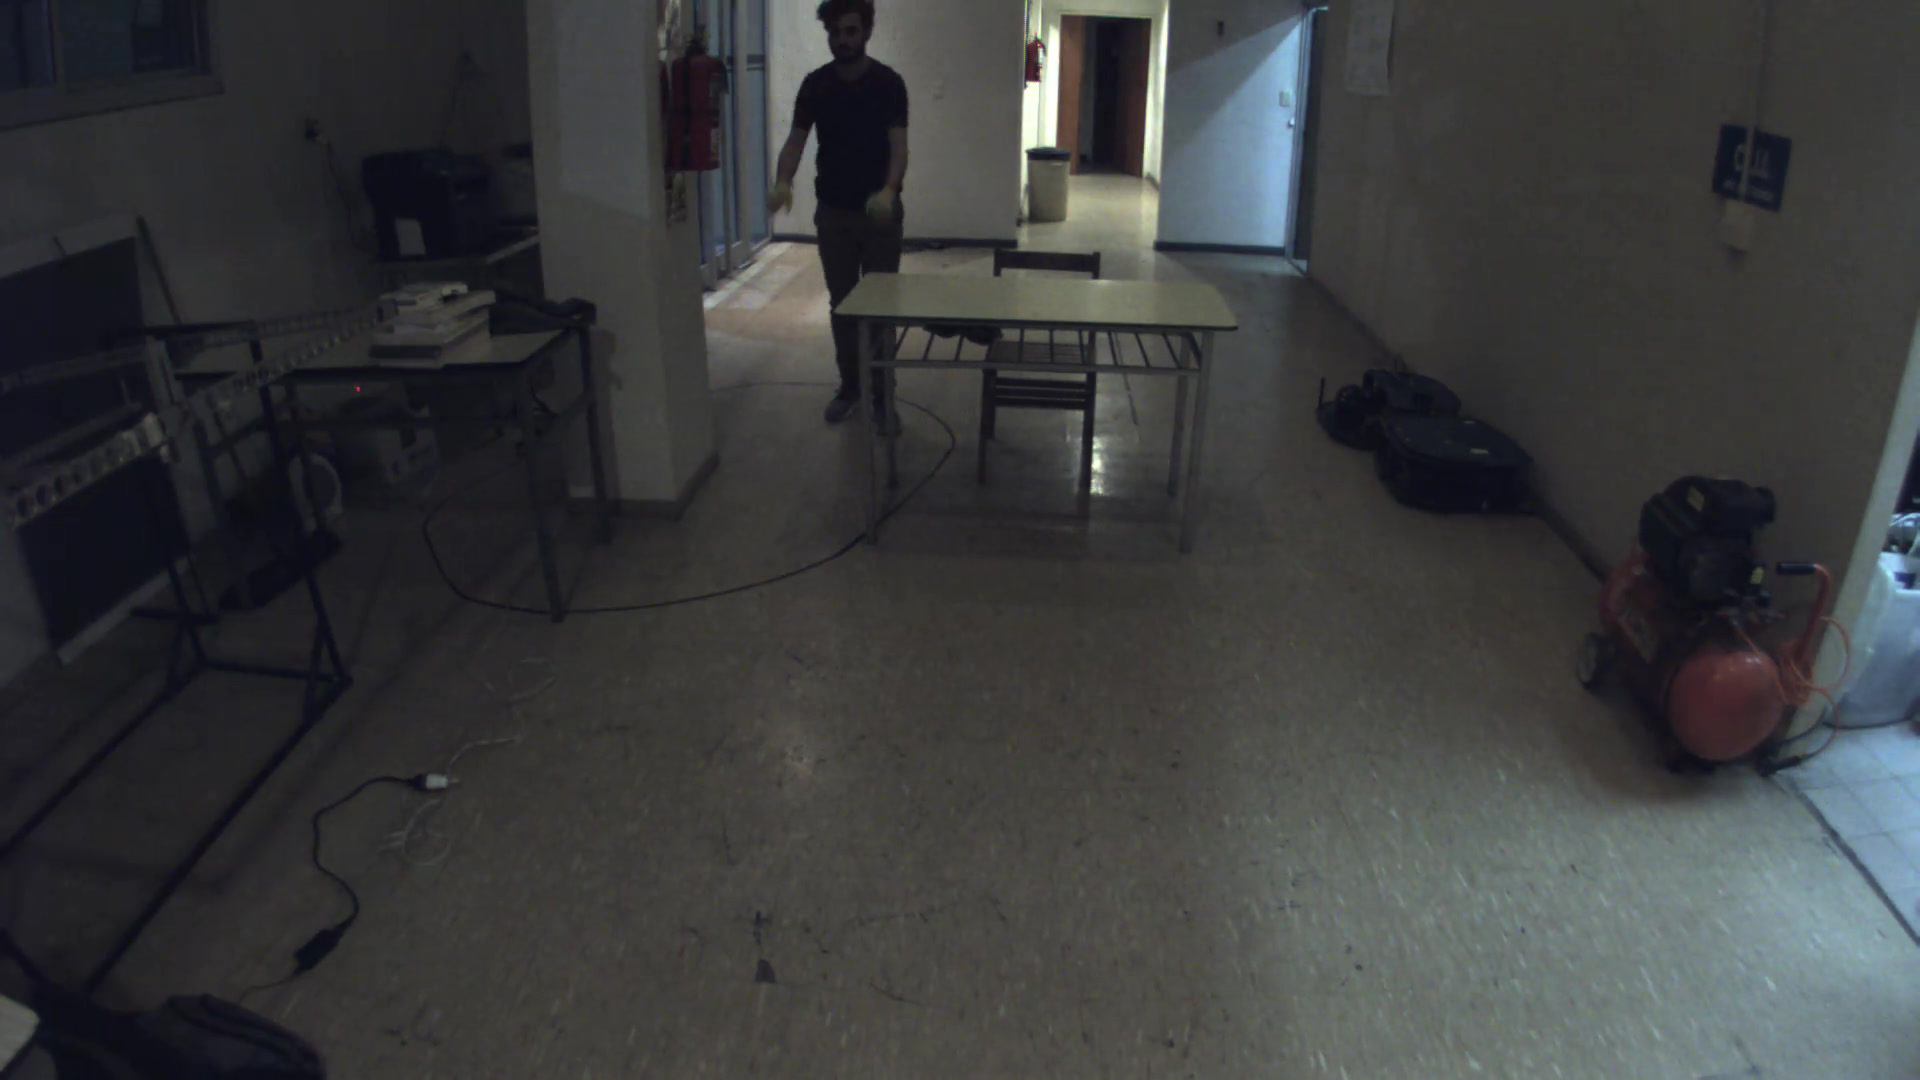hand: (757, 170, 806, 233), (865, 175, 910, 233)
